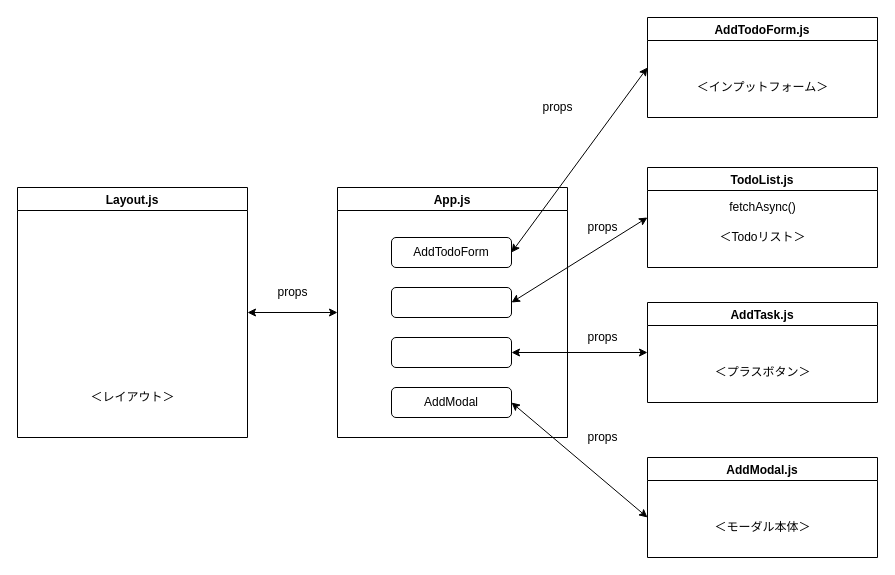
This 895x575 diagram has some shape labels left out. Here are the shapes that lost their labels. From the top down, the centre of each, then its label:
point (451, 302): TodoList
point (451, 352): AddTask
